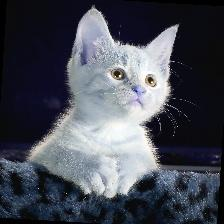kedo: (26, 8, 181, 199)
